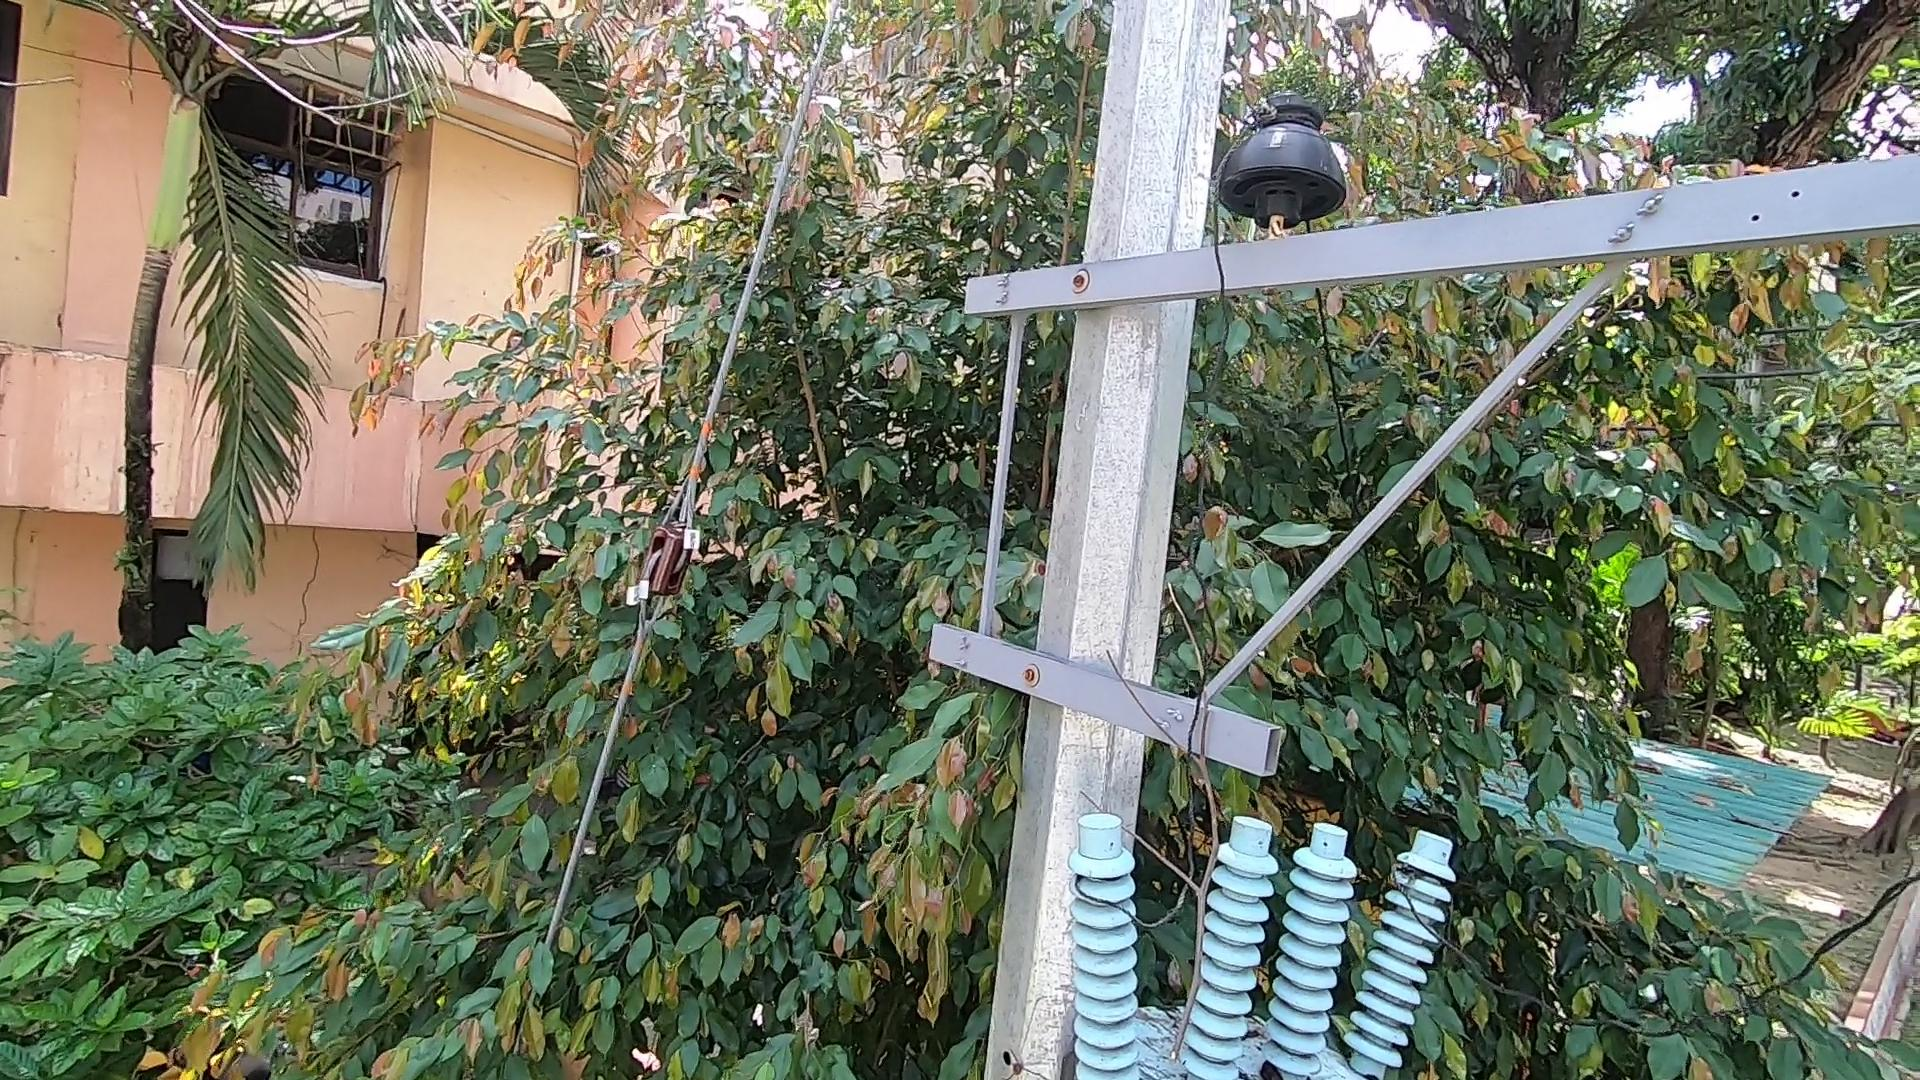leaf: (1254, 1052, 1288, 1080)
tree branch: (1051, 527, 1242, 1069)
